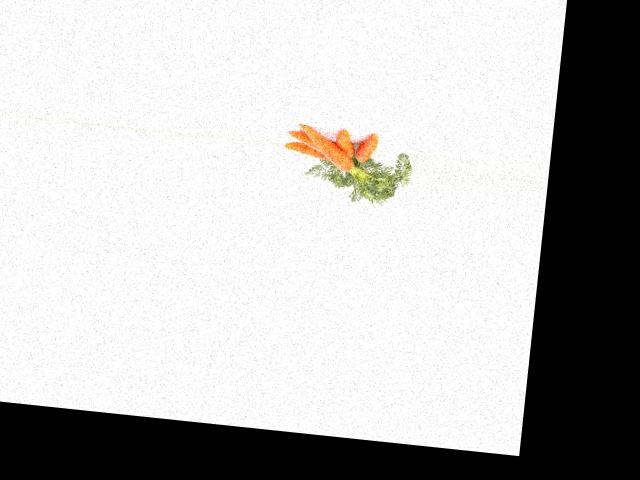carrot: (296, 121, 365, 177)
